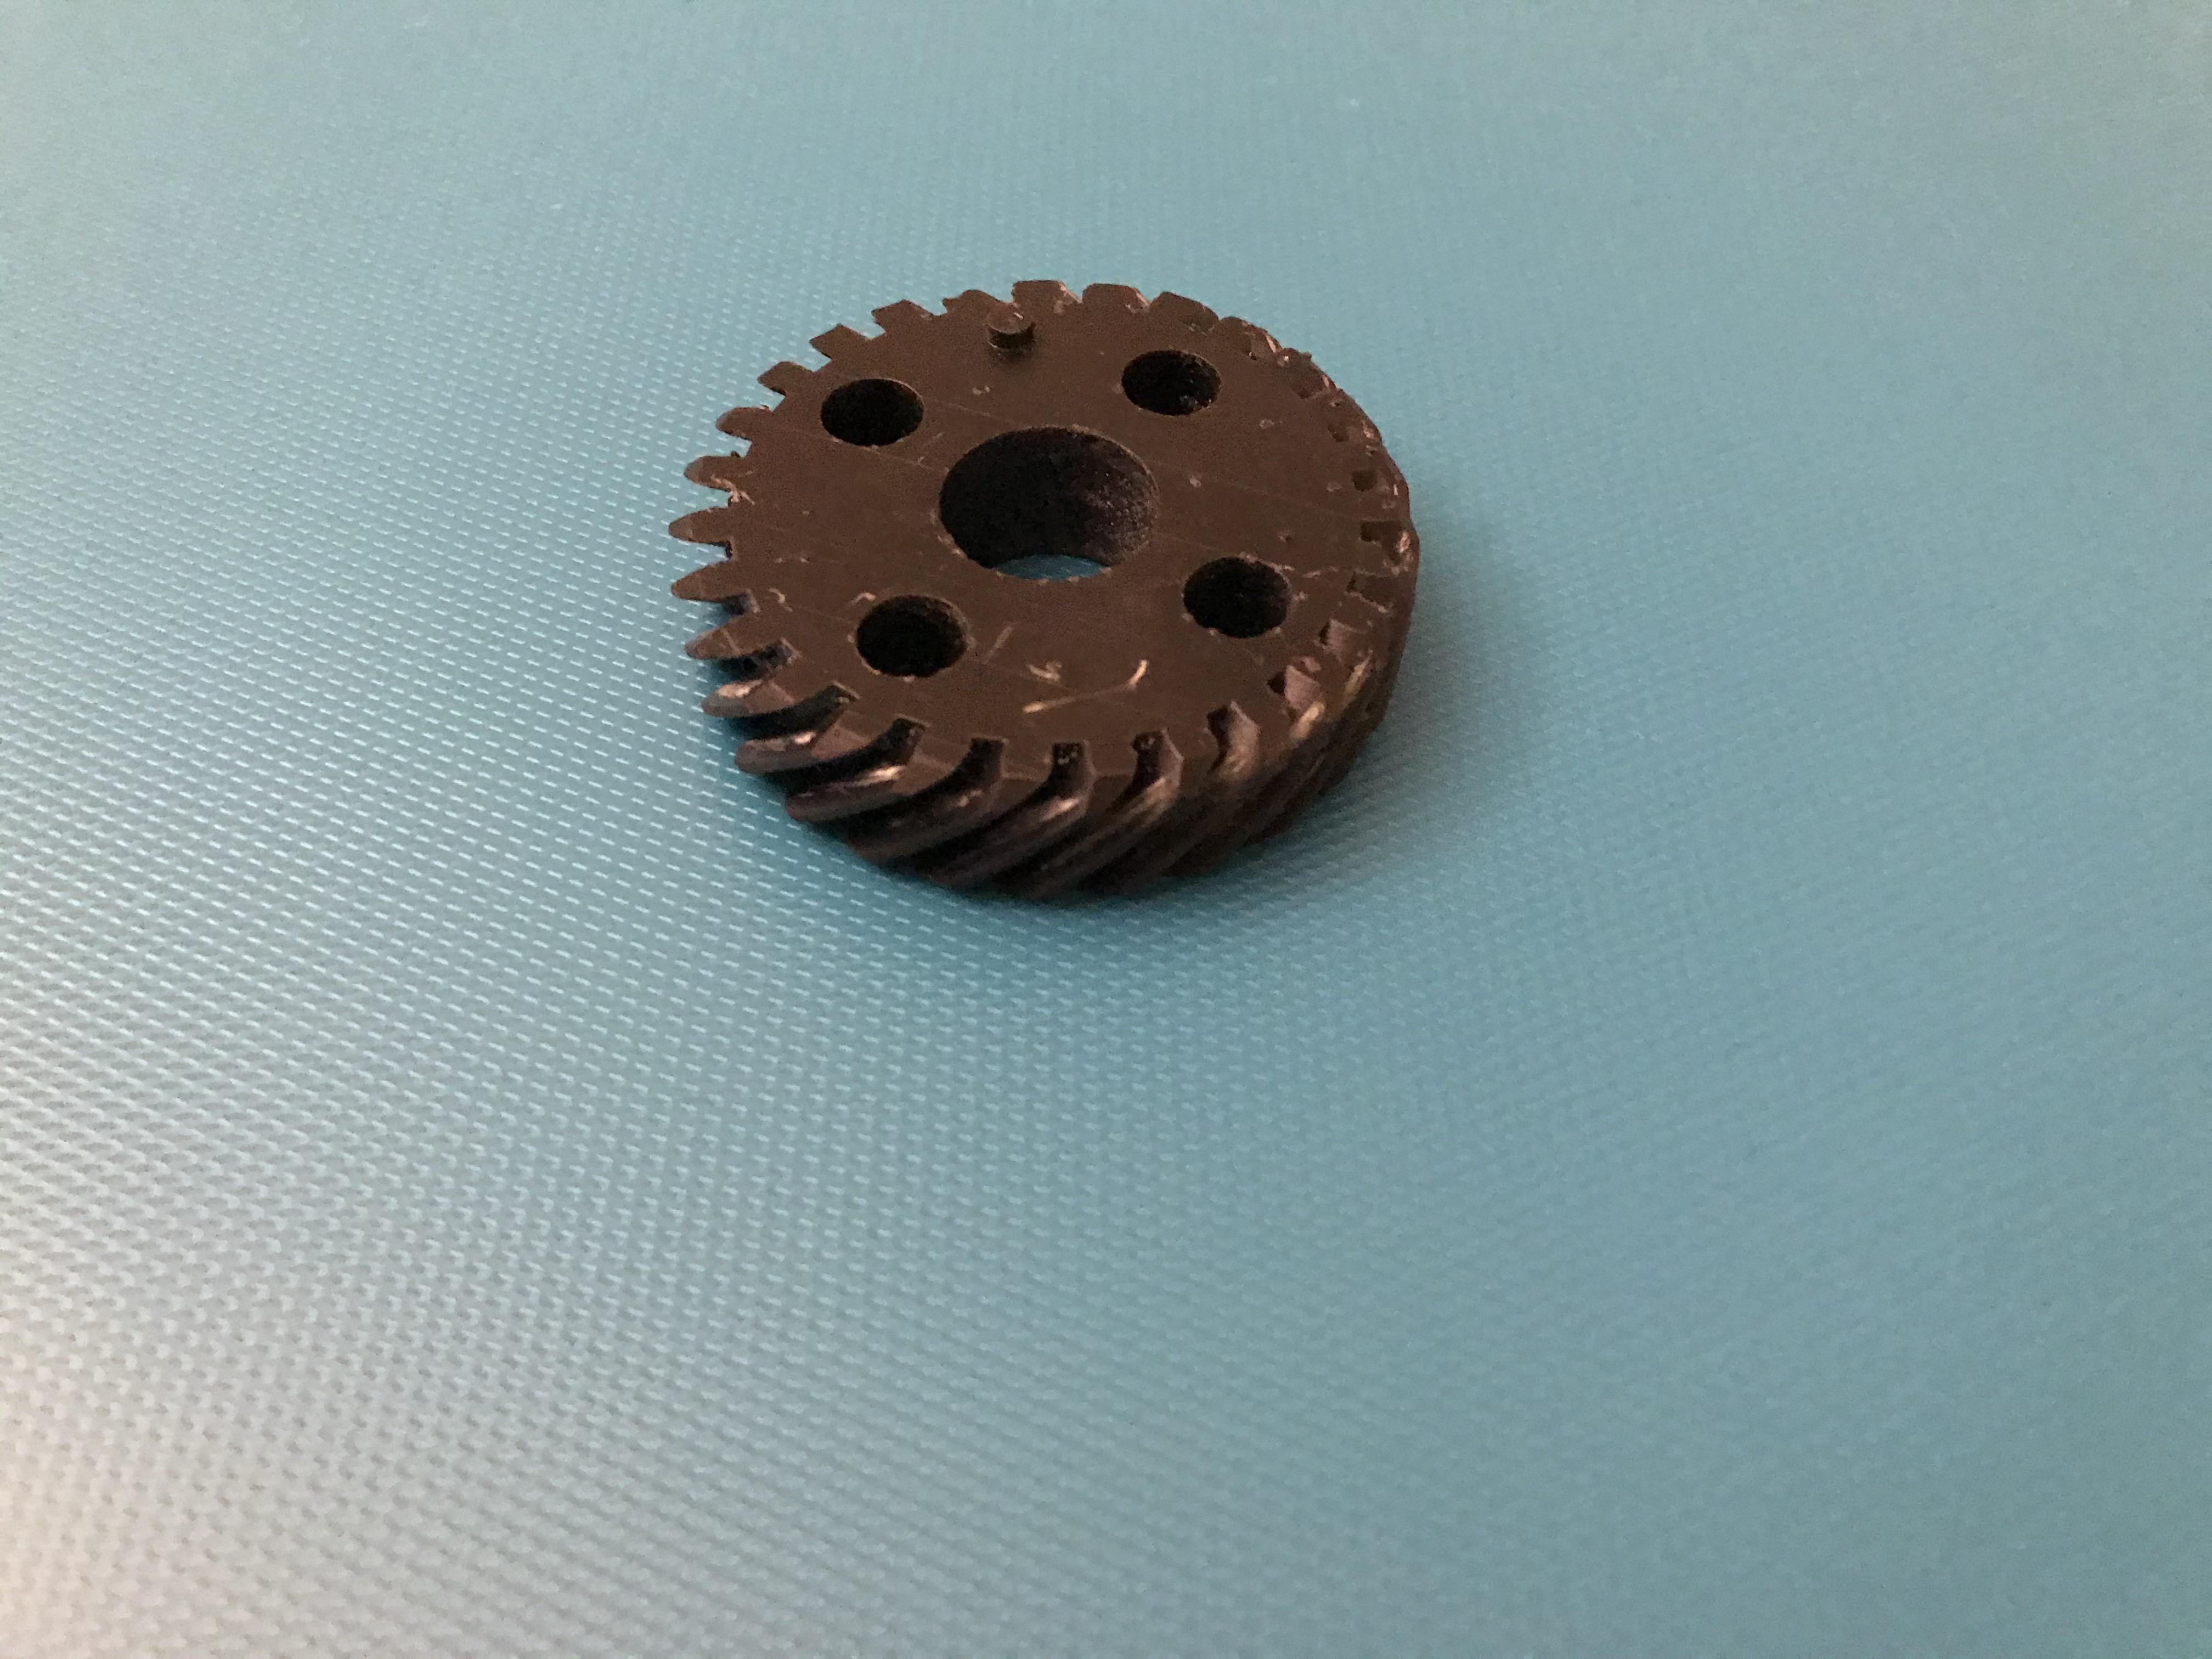Wheel: (672, 277, 1430, 924)
